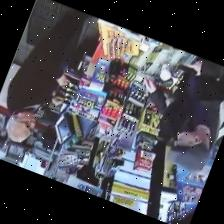person: (6, 9, 90, 141), (144, 58, 223, 171)
